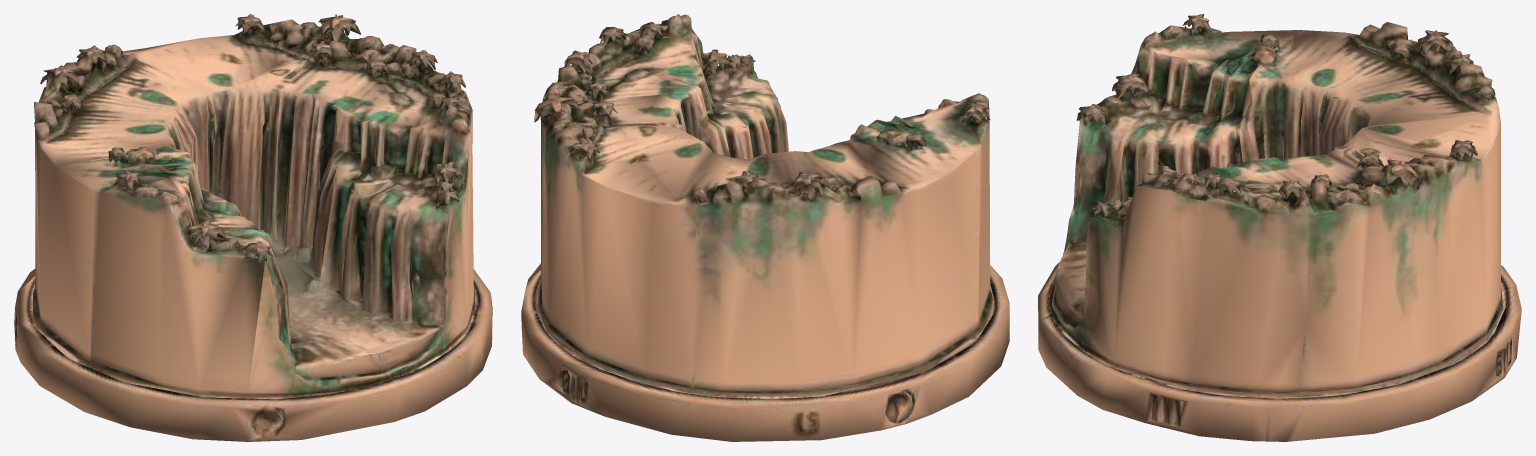
The model's file is iguazu_falls.glb.
3 renders of one model, left to right at view 1: azimuth 30°, elevation 25°; view 2: azimuth 150°, elevation 25°; view 3: azimuth 270°, elevation 25°, orthographic. The views are drawn at different scales.
Parts seen in each view (by area): view 1: Mesh_0; view 2: Mesh_0; view 3: Mesh_0.
Boxes of the visible parts, x1,y1,x2,y2 form: Mesh_0: (14, 14, 492, 441); Mesh_0: (521, 14, 1009, 441); Mesh_0: (1038, 14, 1521, 441).
Size of the model in its own units: 1.91 by 1.1 by 1.9.
Materials: 1 (1 with a texture image).
